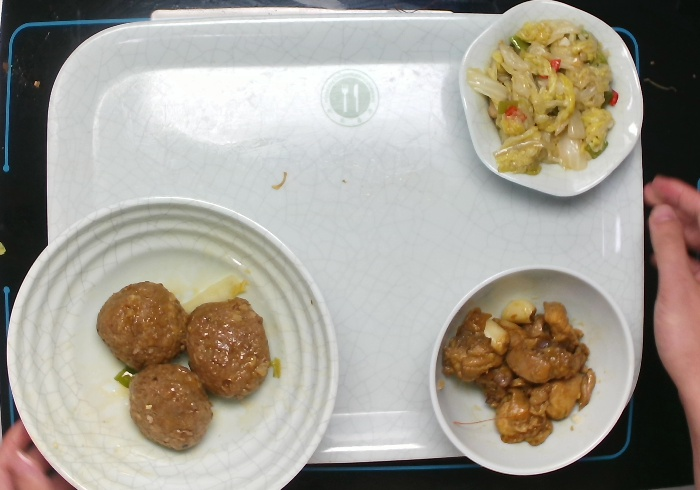JYsf-Da_Tang_Wan: (2, 192, 342, 490)
JYsf-Fan_Wan: (422, 256, 642, 479)
WCQzf-Hua_Duo_Wan: (454, 1, 650, 204)
